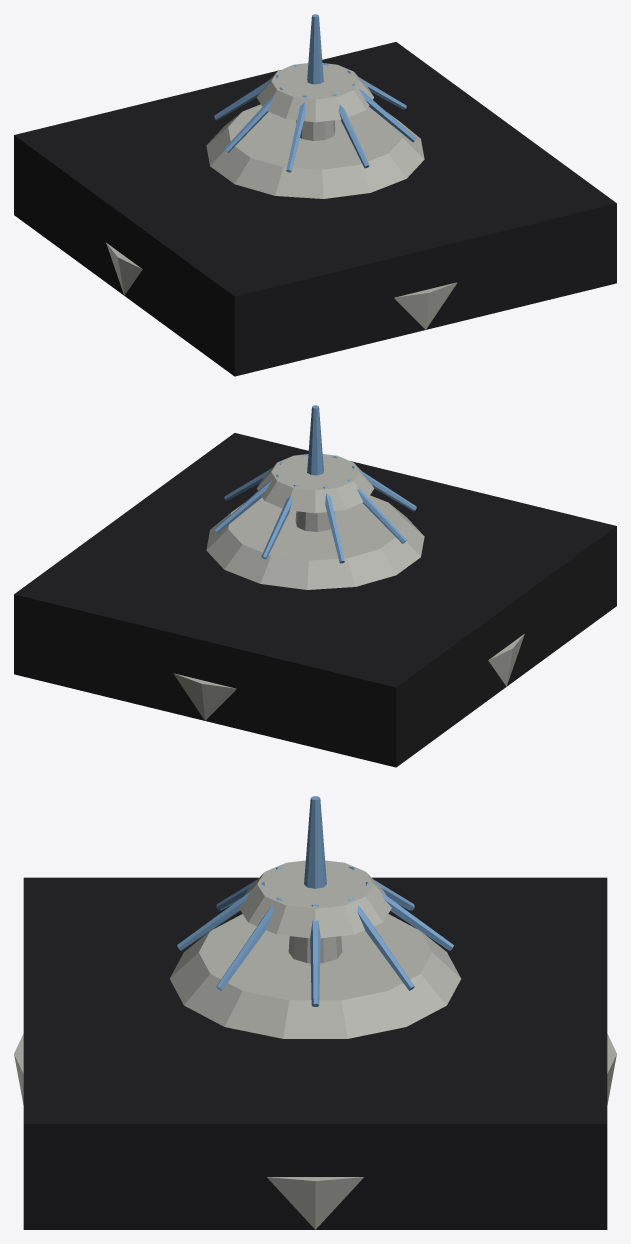
The model's file is env_pbg_fountain.fbx.
3 renders of one model, top to bottom at view 1: azimuth 30°, elevation 25°; view 2: azimuth 150°, elevation 25°; view 3: azimuth 270°, elevation 25°, orthographic. The views are drawn at different scales.
Parts seen in each view (by area): view 1: COL_env_pbg_fountain, env_pbg_fountain_geo_LOD0; view 2: COL_env_pbg_fountain, env_pbg_fountain_geo_LOD0; view 3: COL_env_pbg_fountain, env_pbg_fountain_geo_LOD0.
Boxes of the visible parts, left/top/right/bottom form: COL_env_pbg_fountain: left=14, top=42, right=616, bottom=376; env_pbg_fountain_geo_LOD0: left=106, top=14, right=457, bottom=329; COL_env_pbg_fountain: left=14, top=433, right=616, bottom=767; env_pbg_fountain_geo_LOD0: left=173, top=405, right=524, bottom=720; COL_env_pbg_fountain: left=23, top=877, right=607, bottom=1229; env_pbg_fountain_geo_LOD0: left=14, top=796, right=616, bottom=1229.
Size of what is drawn, in the model's own units: 6.2 by 3.5 by 6.2.
